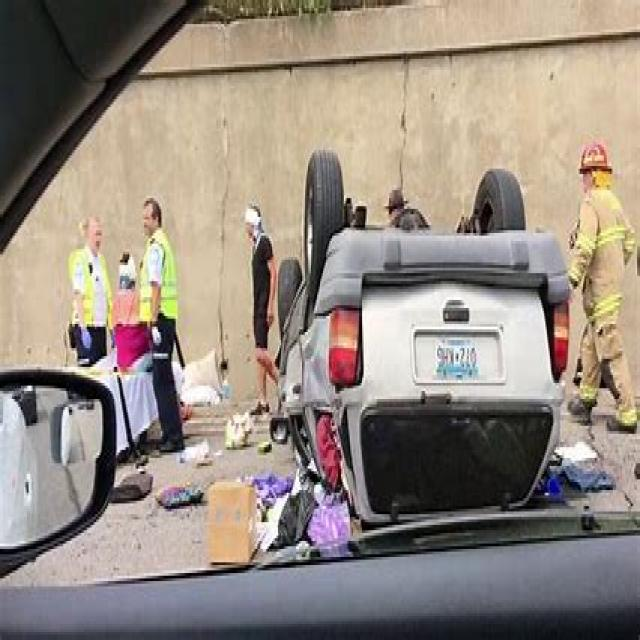Accident: (214, 160, 580, 514)
